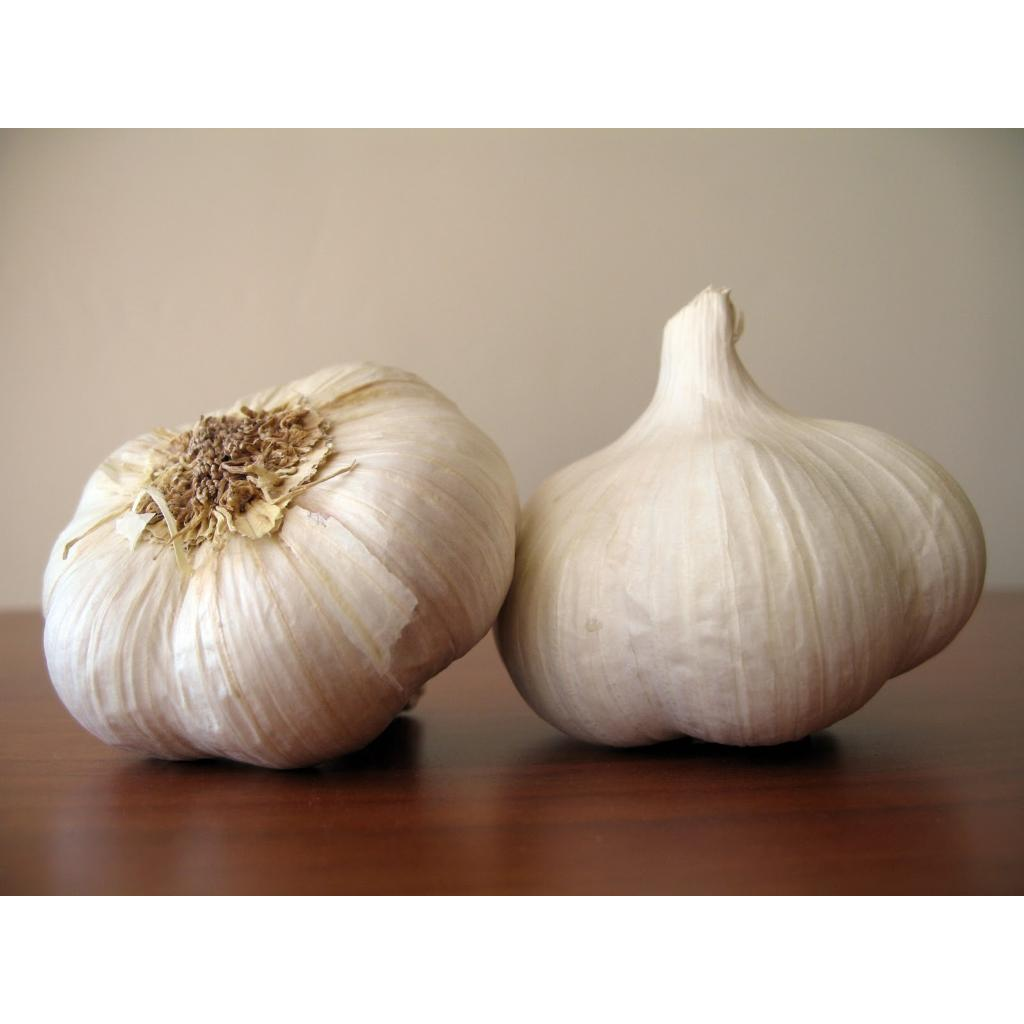garlic: (495, 287, 984, 745), (42, 364, 516, 767)
